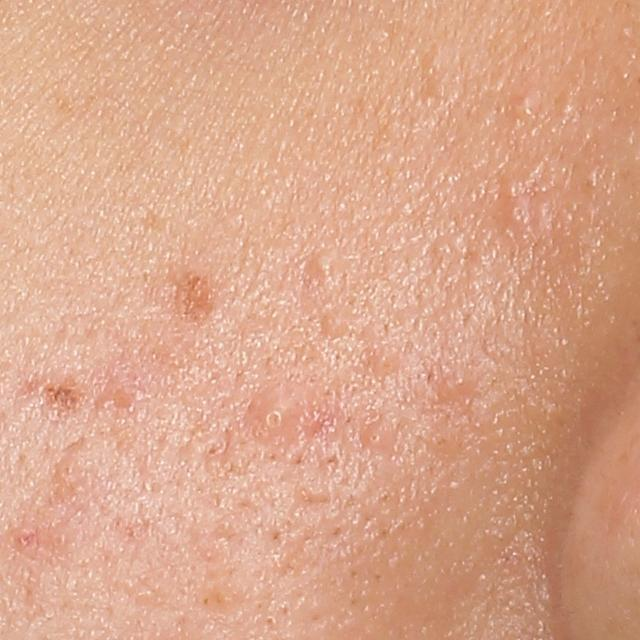comedo: (359, 419, 399, 456), (432, 362, 468, 396), (498, 202, 527, 233), (507, 95, 537, 122)
nevus: (38, 367, 87, 417)
